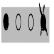correct: (3, 11, 9, 33)
not correct: (38, 2, 48, 40)
